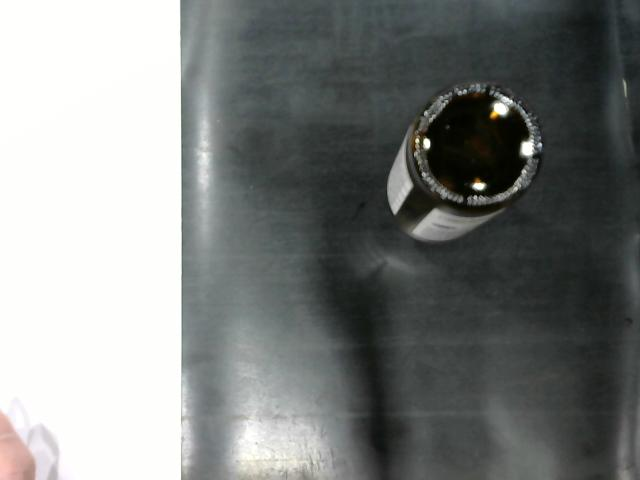glass: (354, 64, 560, 264)
